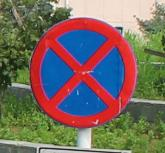No Parking: (33, 16, 138, 130)
